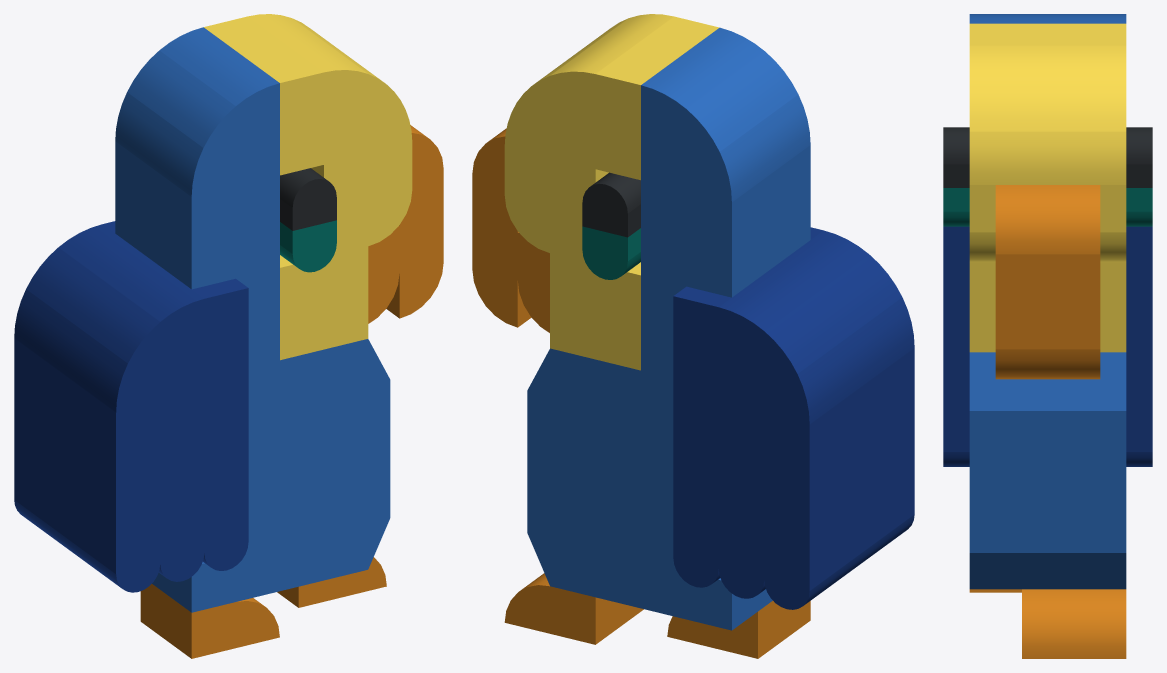
File: loveBird.glb
3 views of the same model, side by side, from view 1: azimuth 30°, elevation 25°; view 2: azimuth 150°, elevation 25°; view 3: azimuth 270°, elevation 25° (orthographic). The views are drawn at different scales.
Visible parts, largest first — view 1: generated(Clone); view 2: generated(Clone); view 3: generated(Clone).
Boxes of the visible parts, bbox=[...] form: generated(Clone): bbox=[14, 14, 443, 658]; generated(Clone): bbox=[472, 14, 914, 658]; generated(Clone): bbox=[943, 14, 1152, 658].
Bounding box in the file's own units: 8 × 12 × 4.
